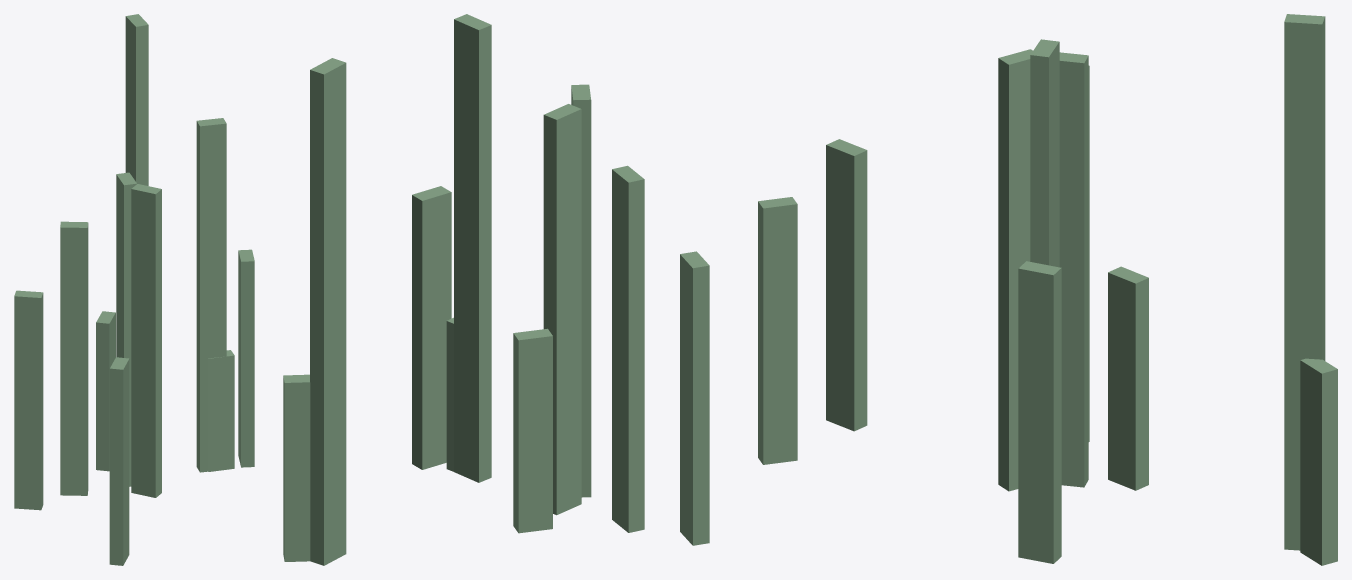
File: weed_cluster_03.glb
3 renders of one model, left to right at view 1: azimuth 30°, elevation 25°; view 2: azimuth 150°, elevation 25°; view 3: azimuth 270°, elevation 25°, orthographic. The views are drawn at different scales.
Parts seen in each view (by area): view 1: blade4, blade6, blade10, blade9, blade1, blade8, blade7, blade2, blade0, blade5; view 2: blade8, blade6, blade2, blade10, blade1, blade7, blade9, blade5, blade3, blade4, blade0; view 3: blade8, blade7, blade2, blade1, blade4, blade5, blade3, blade6, blade10.
Part boxes in pixels (<box>): blade4: <box>131,184,161,497</box>; blade6: <box>196,118,226,472</box>; blade10: <box>60,221,88,495</box>; blade9: <box>14,290,43,510</box>; blade1: <box>109,357,129,565</box>; blade8: <box>125,14,148,185</box>; blade7: <box>238,249,254,467</box>; blade2: <box>116,172,136,486</box>; blade0: <box>208,350,234,471</box>; blade5: <box>96,311,115,471</box>; blade8: <box>310,58,346,565</box>; blade6: <box>454,14,491,482</box>; blade2: <box>543,104,581,515</box>; blade10: <box>612,165,644,532</box>; blade1: <box>758,197,797,464</box>; blade7: <box>412,186,451,469</box>; blade9: <box>680,251,709,545</box>; blade5: <box>513,328,552,533</box>; blade3: <box>283,374,310,561</box>; blade4: <box>571,84,591,497</box>; blade0: <box>446,317,453,471</box>; blade8: <box>1284,14,1325,550</box>; blade7: <box>1018,261,1061,563</box>; blade2: <box>1059,52,1088,487</box>; blade1: <box>826,139,867,431</box>; blade4: <box>998,49,1032,491</box>; blade5: <box>1108,266,1148,490</box>; blade3: <box>1300,358,1337,565</box>; blade6: <box>1030,39,1059,267</box>; blade10: <box>1088,65,1089,441</box>.
Bounding box in the file's own units: 0.3957 × 0.6032 × 0.5304.
